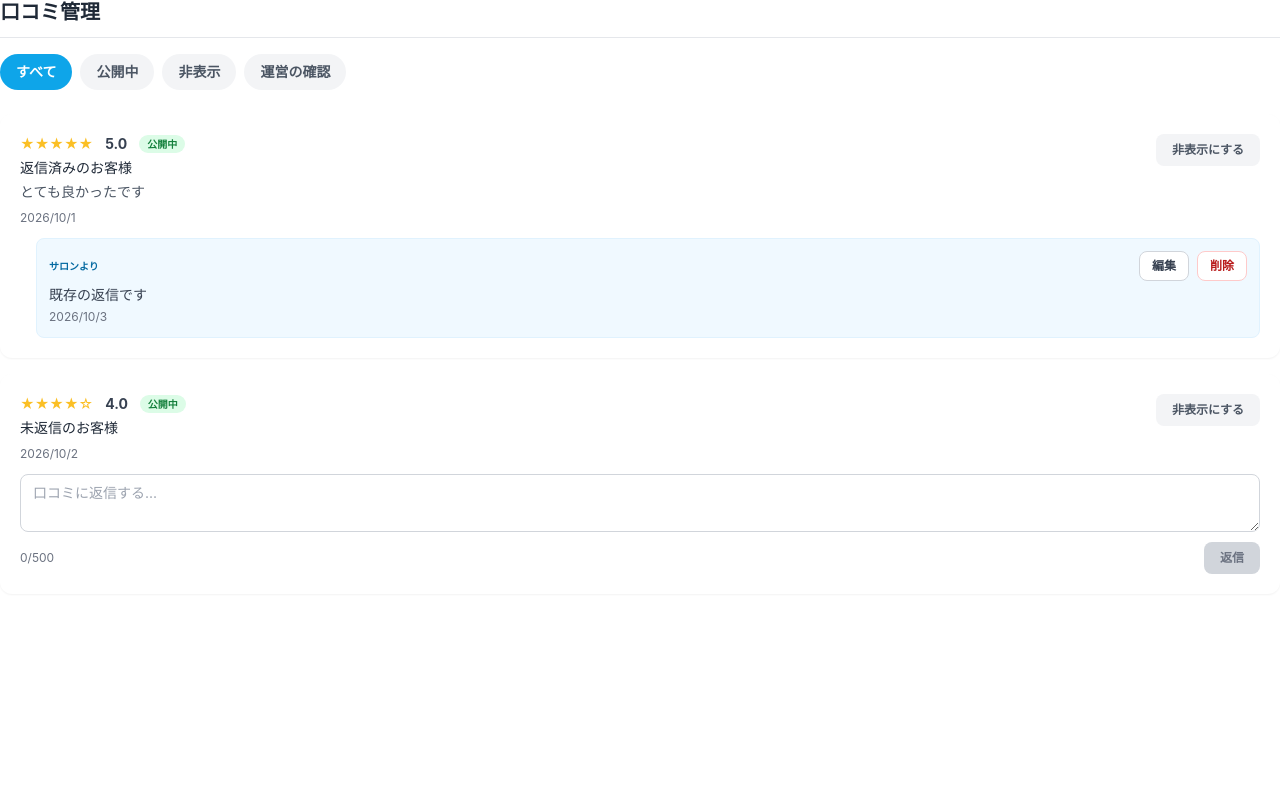
Test case: 公開 › 「返信」は公開の確認を出し、キャンセルなら送らない
Type "ありがとうございます" into the text box with placeholder "口コミに返信する..." at (640, 503), box top-left (20, 474), bottom-right (1260, 532)
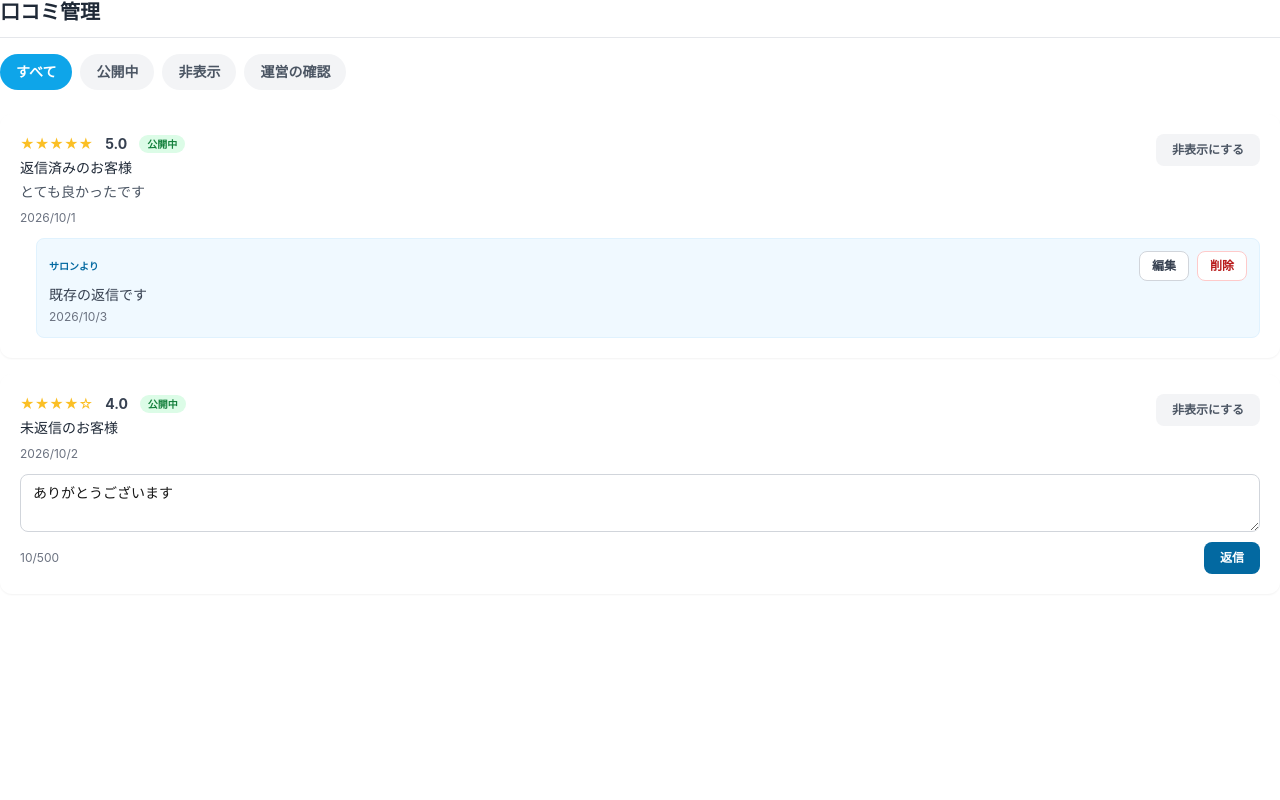
Click the button "返信" at (1232, 558), box top-left (1204, 542), bottom-right (1260, 574)
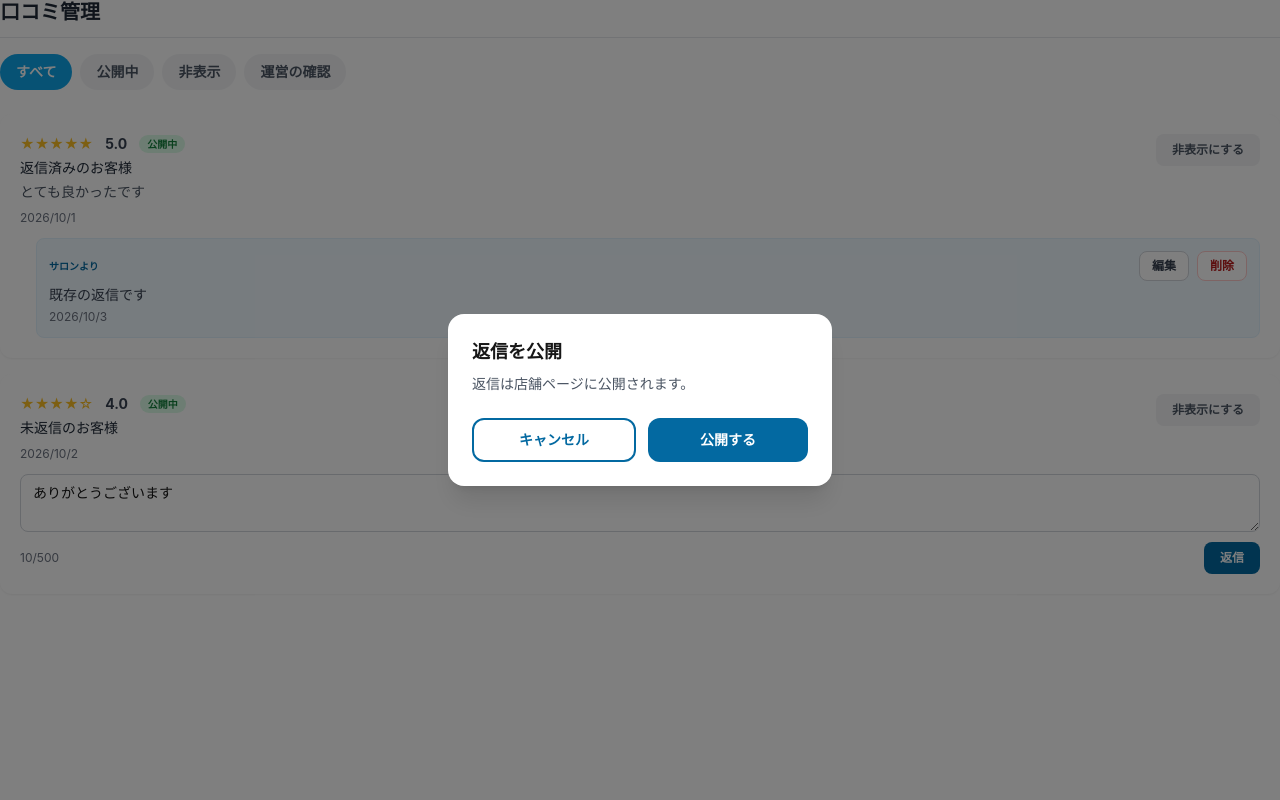
expect the text "返信は店舗ページに公開されます。" is shown: met, box top-left (472, 375), bottom-right (694, 392)
Click the button "キャンセル" at (554, 440), box top-left (472, 418), bottom-right (636, 462)
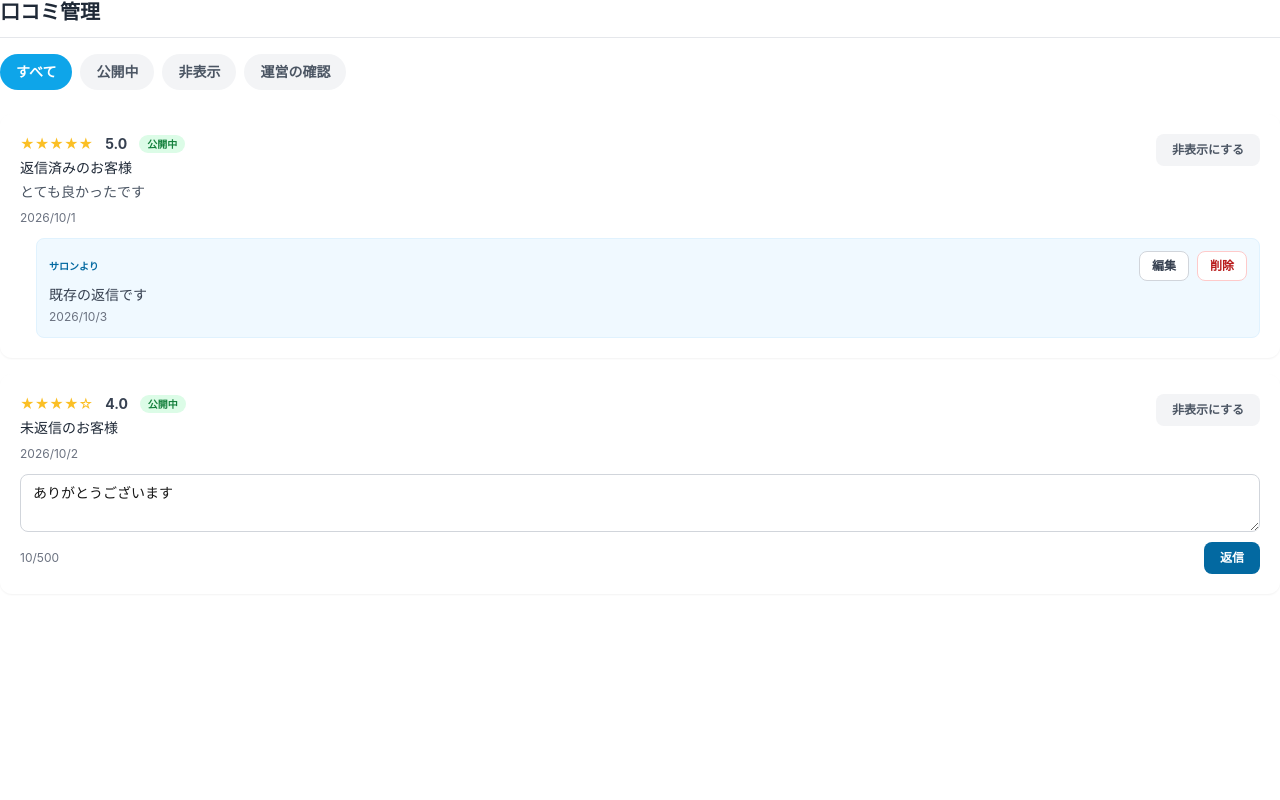
expect the dialog is gone: met
